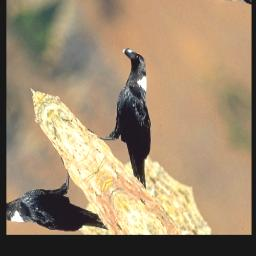Crow: (69, 40, 203, 196)
